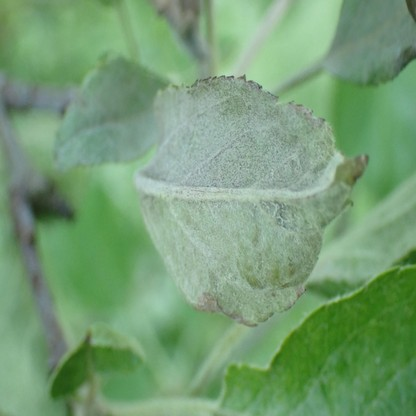powdery_mildew: (133, 76, 369, 326), (53, 54, 161, 167), (325, 0, 415, 79)
